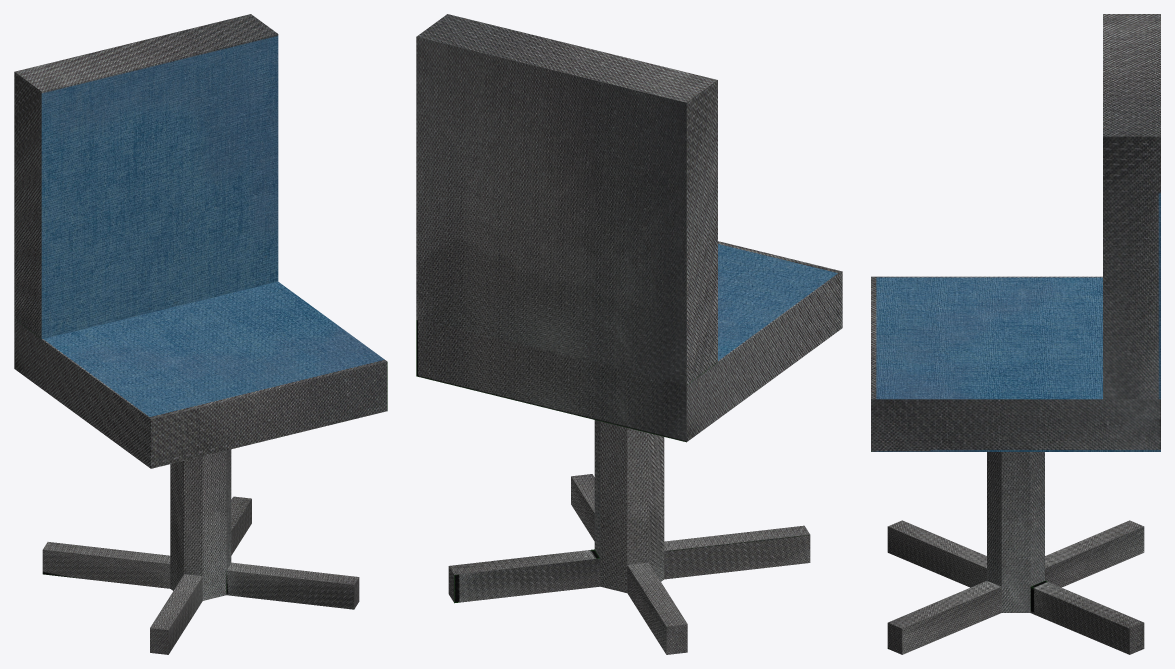
The model's file is Computer_Chair.FBX.
3 renders of one model, left to right at view 1: azimuth 30°, elevation 25°; view 2: azimuth 150°, elevation 25°; view 3: azimuth 270°, elevation 25°, orthographic. The views are drawn at different scales.
Parts seen in each view (by area): view 1: Box001; view 2: Box001; view 3: Box001.
Boxes of the visible parts, bbox=[...] form: Box001: bbox=[14, 14, 387, 654]; Box001: bbox=[416, 14, 842, 654]; Box001: bbox=[871, 14, 1160, 654].
Bounding box in the file's own units: 50 × 100 × 50.
